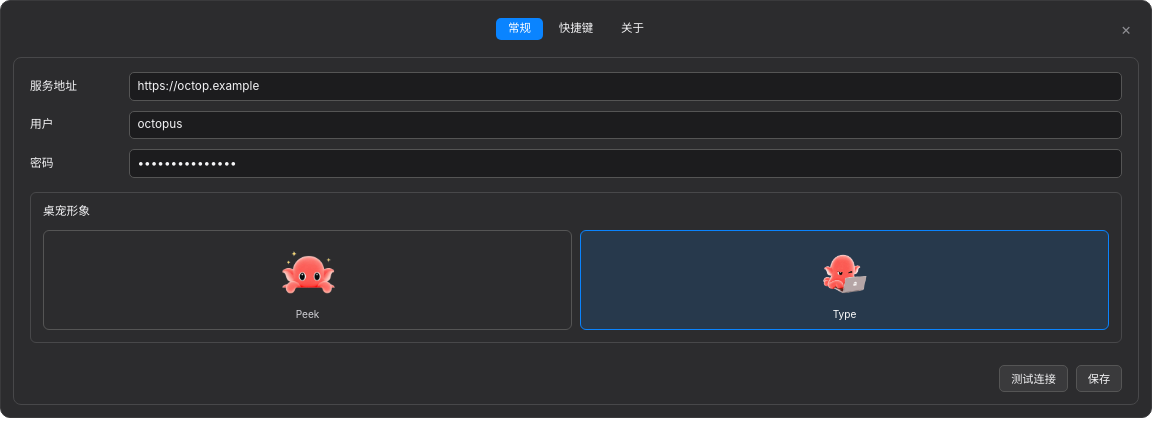
Test: SettingsWindow › stores the token after a successful connection test and reports errors
Expected: the field showing "https://octop.example" is shown, [129,72,1122,100]
What coordinates should you click on to do the following:
click the button "测试连接"
I would click on:
 (1034, 379)
Its box is [999,365,1068,392].
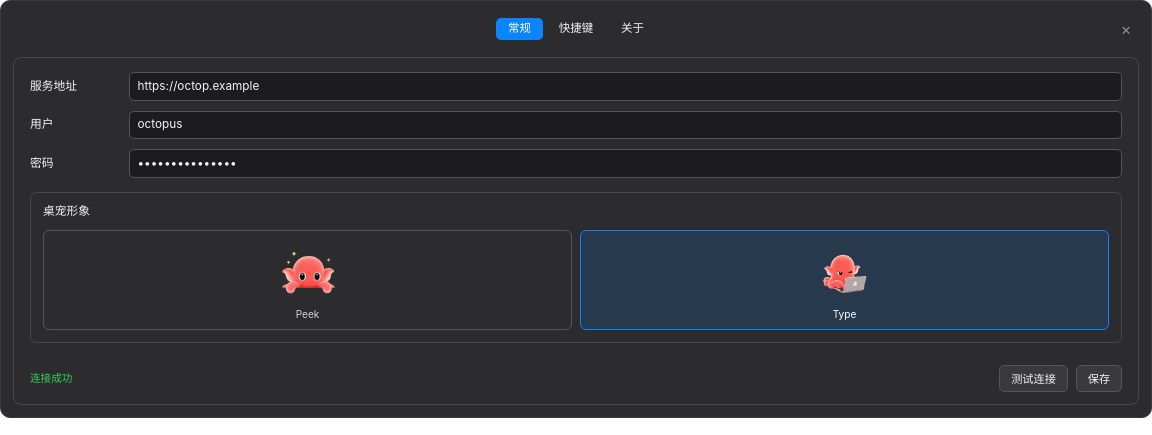
Expected: the text "连接成功" is shown, [30,371,72,386]
What coordinates should you click on to do the following:
click the button "测试连接"
I would click on:
 (1034, 379)
Its box is [999,365,1068,392].
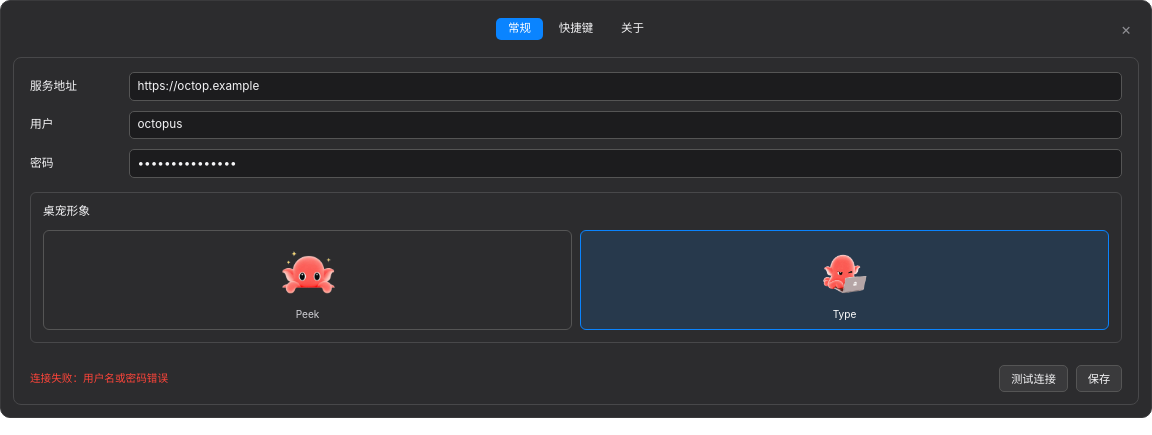
Expected: the text "连接失败：用户名或密码错误" is shown, [30,371,168,386]
